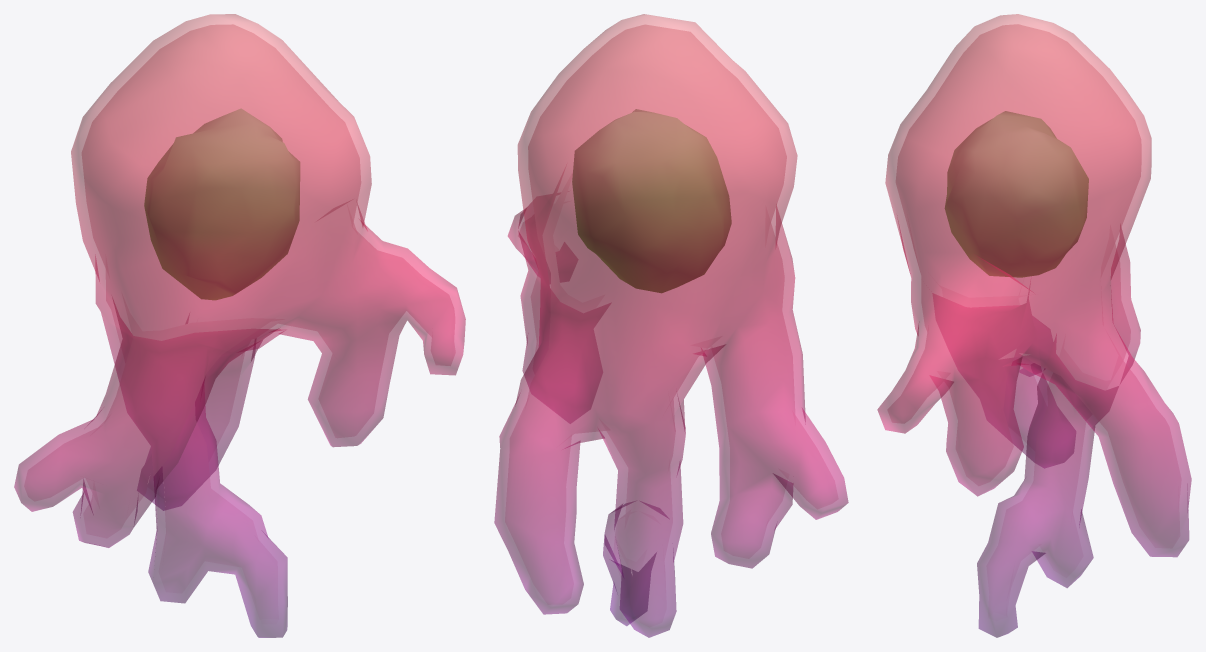
File: capsule_contents_013.glb
3 renders of one model, left to right at view 1: azimuth 30°, elevation 25°; view 2: azimuth 150°, elevation 25°; view 3: azimuth 270°, elevation 25°, orthographic. The views are drawn at different scales.
Visible parts, largest first — view 1: Сapsule_contents_013; view 2: Сapsule_contents_013; view 3: Сapsule_contents_013.
Boxes of the visible parts, x1,y1,x2,y2 form: Сapsule_contents_013: (14, 14, 465, 637); Сapsule_contents_013: (494, 14, 848, 637); Сapsule_contents_013: (877, 14, 1191, 637).
Size of the model in its own units: 0.9592 by 1.45 by 0.6939.
Materials: 3 (3 with a texture image).
